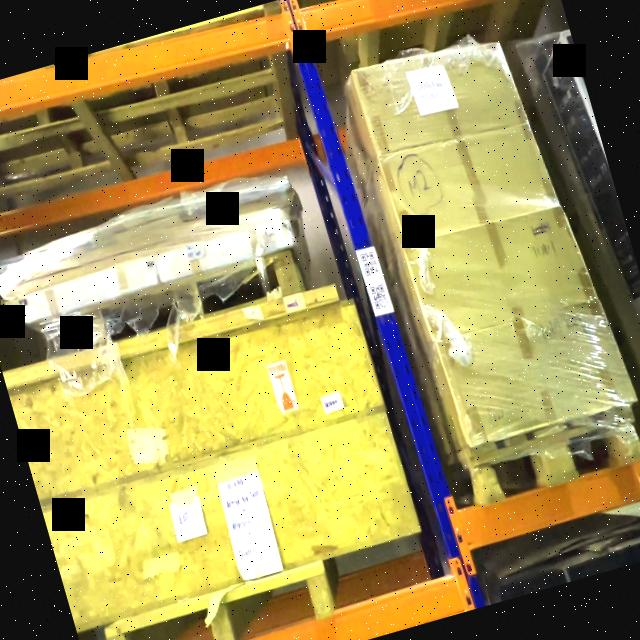box: (402, 200, 618, 448), (358, 34, 552, 242)
